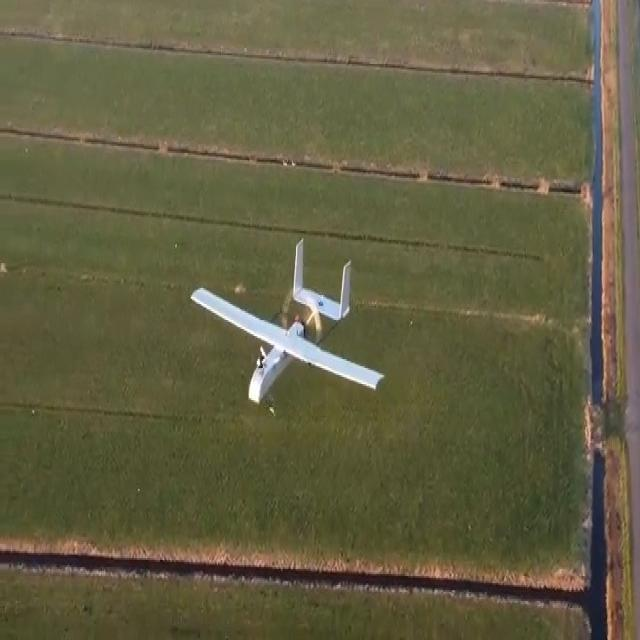iha: (196, 228, 388, 419)
